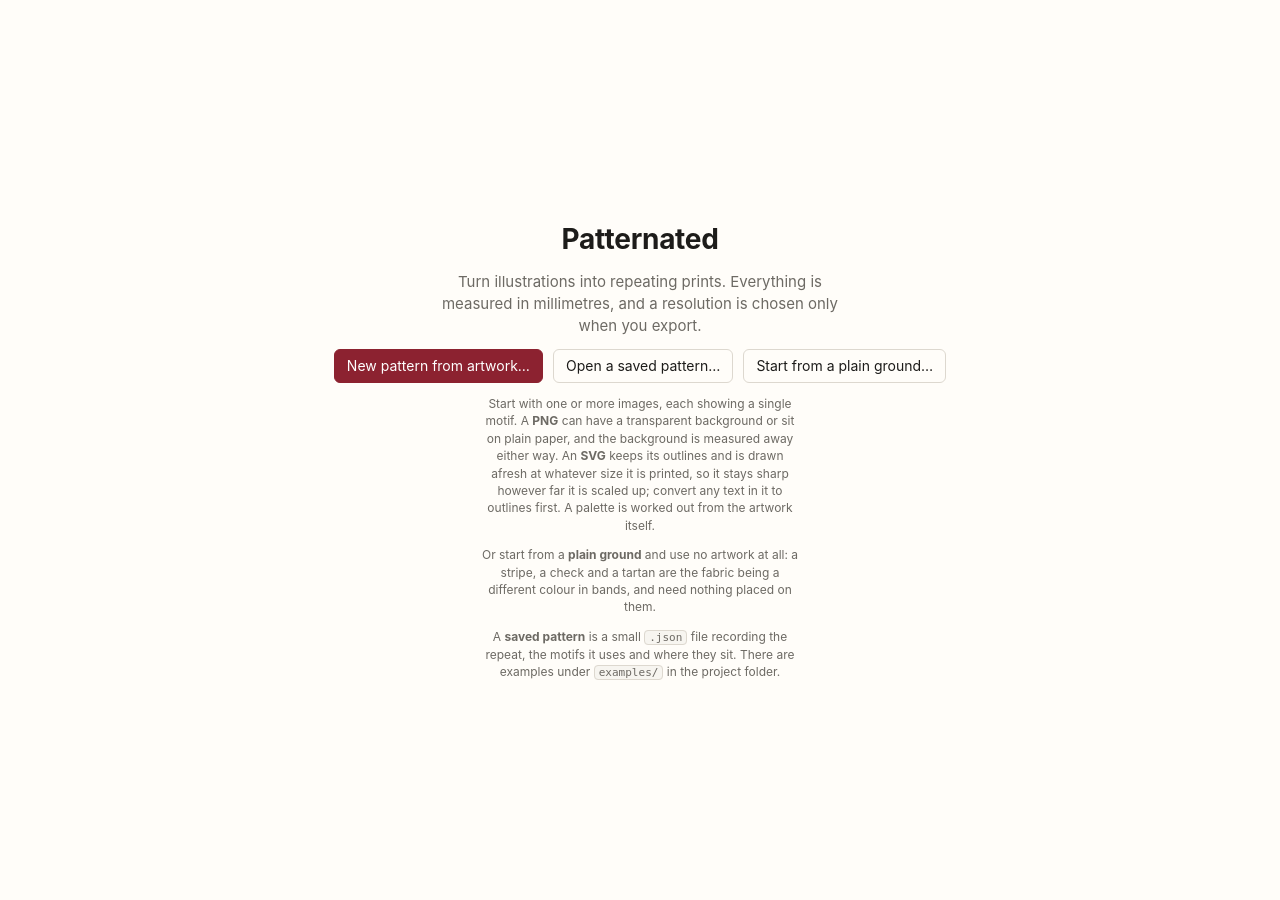
Test: the start screen › is where closing puts you back
Click the button "Open a saved pattern…" at [643, 366], box [553,349,733,383]
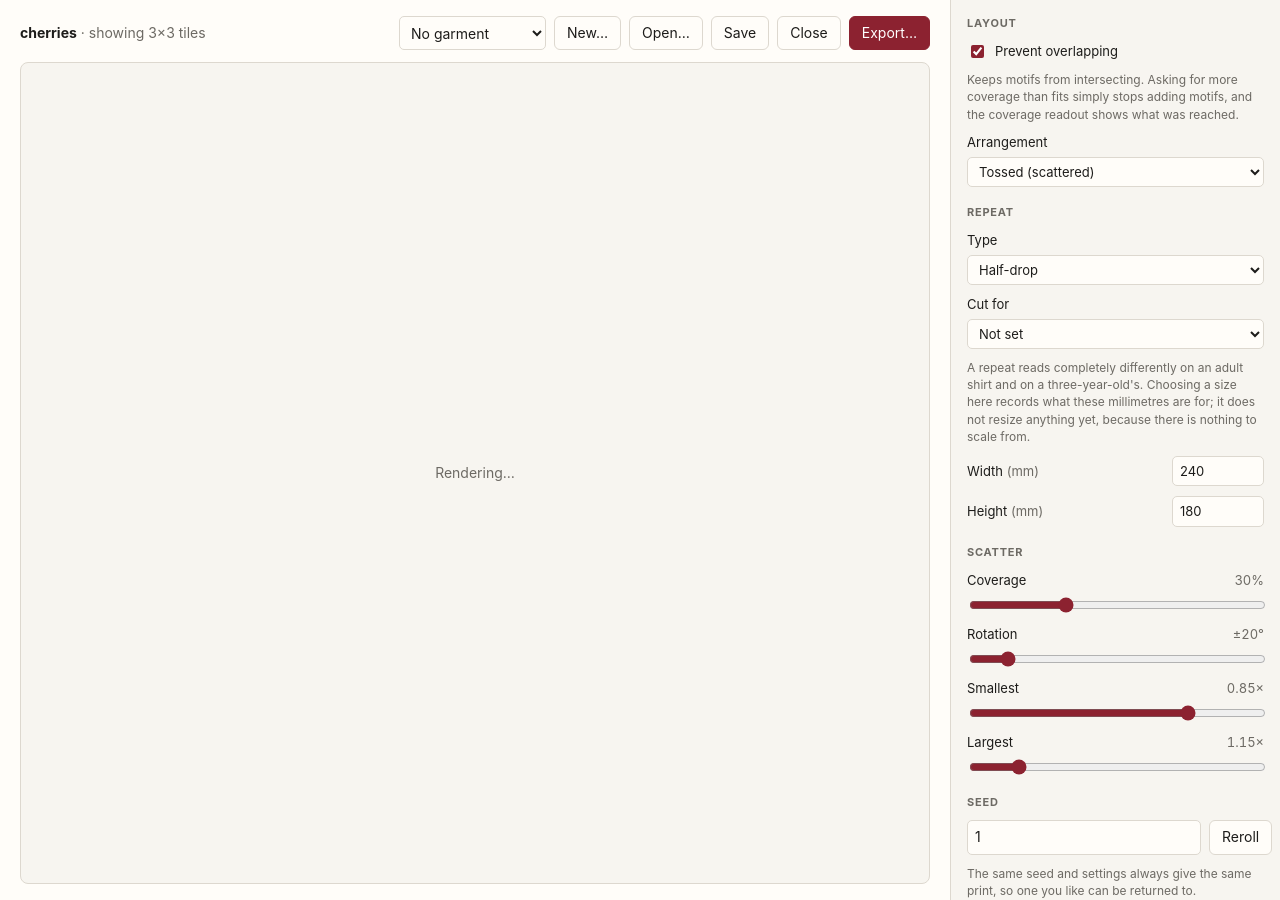
expect the button with test id "close" is shown: met
Click the button with test id "close" at [809, 33], box [777,16,841,50]
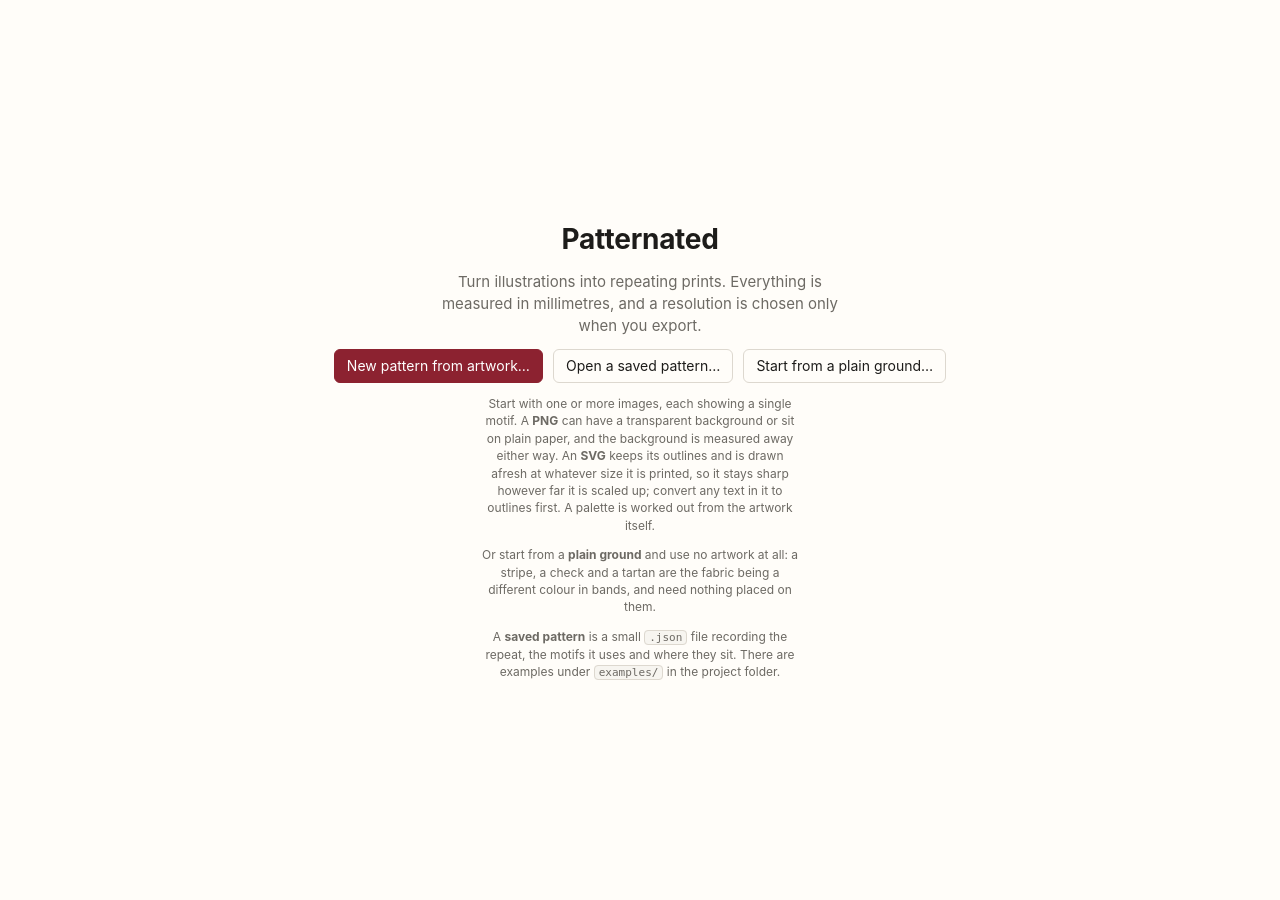
expect the button "New pattern from artwork…" is shown: met, box [334,349,543,383]
expect the button with test id "close" is gone: met
